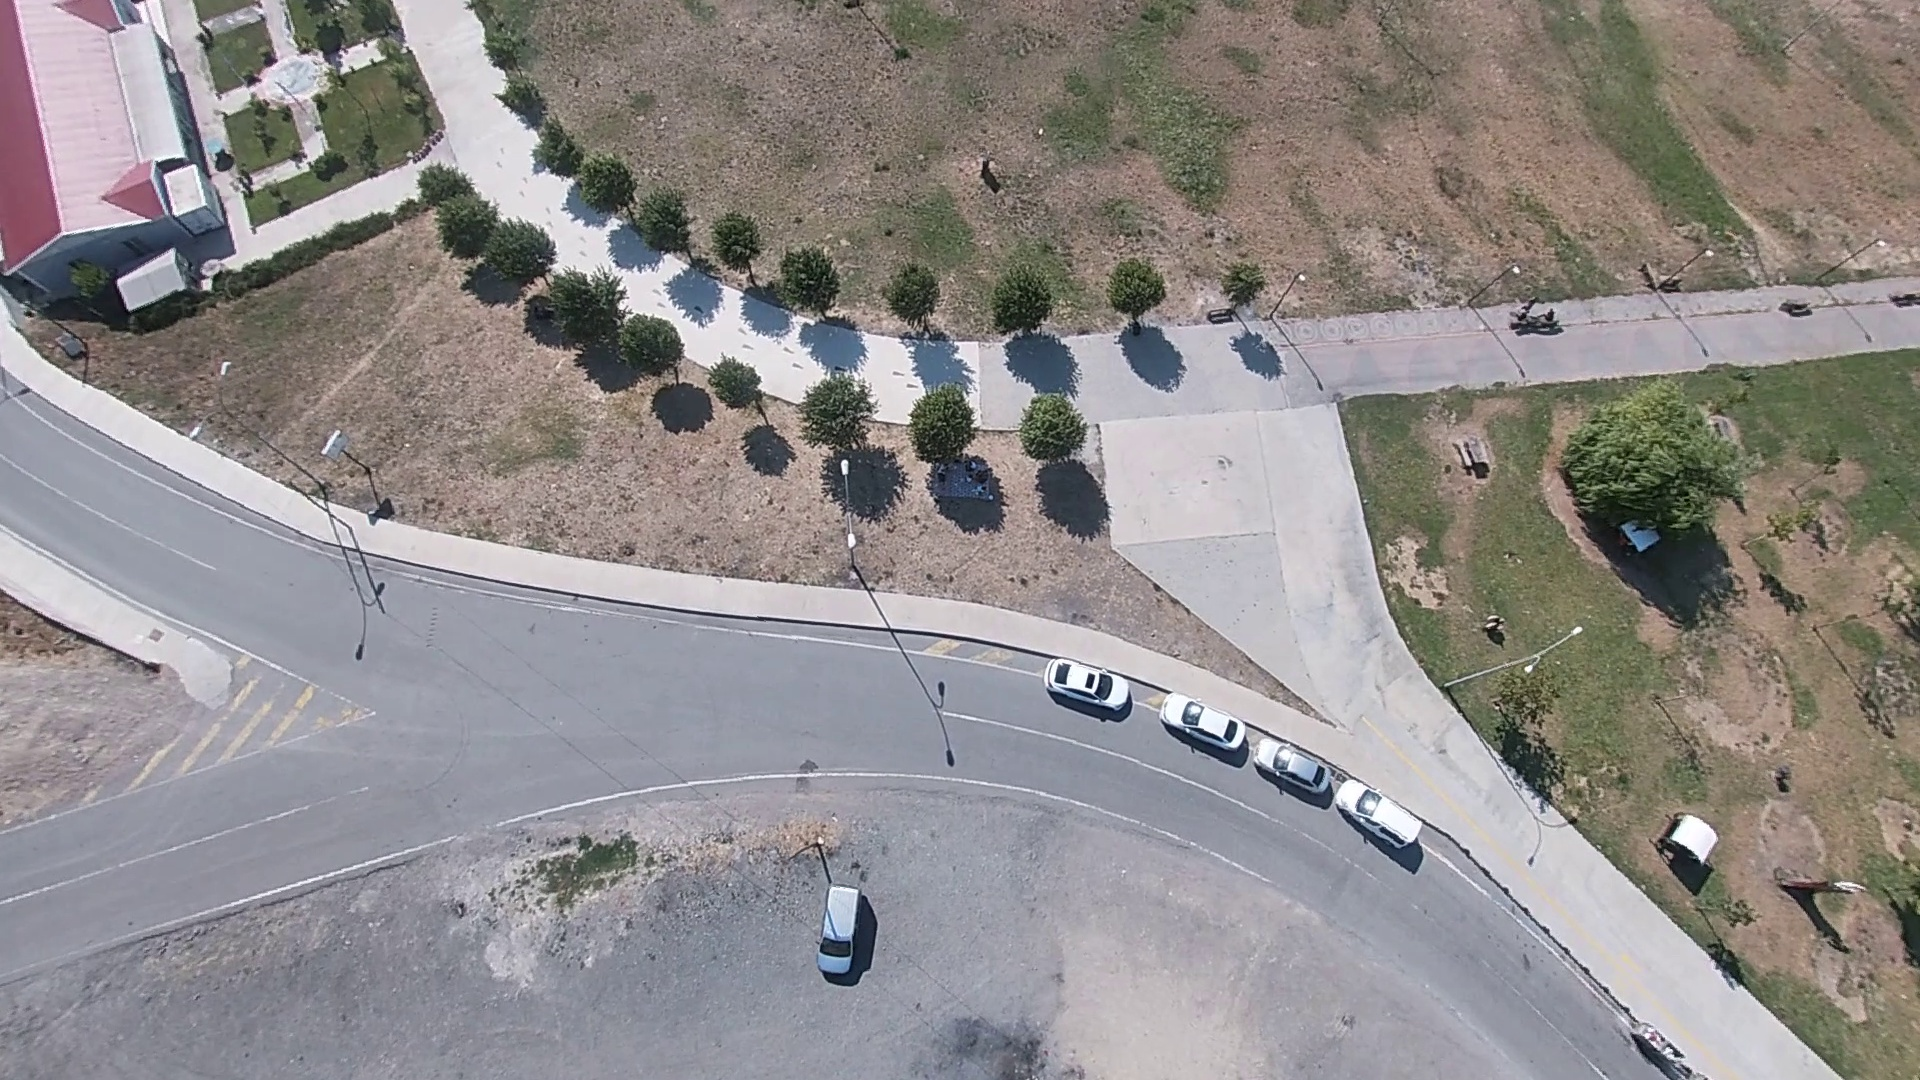arac: (1150, 692, 1439, 858), (1040, 657, 1137, 724), (1652, 810, 1725, 878), (815, 882, 865, 975), (1454, 434, 1492, 479), (1511, 301, 1561, 333)
insan: (1479, 614, 1507, 652), (976, 155, 1000, 196)
